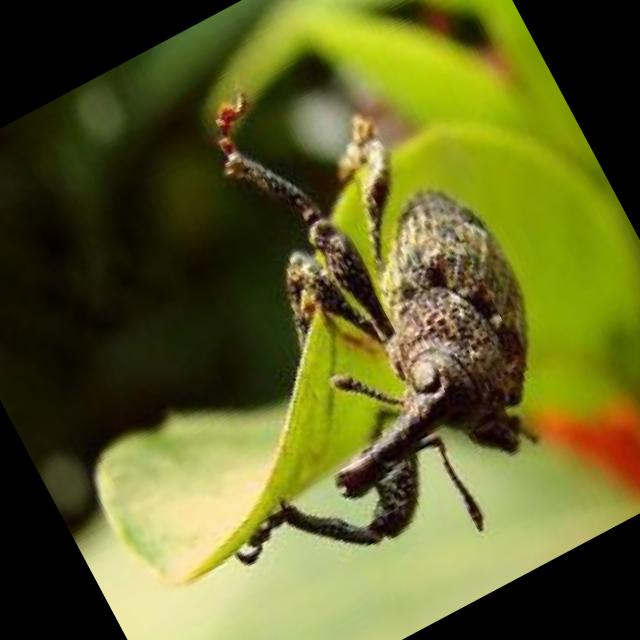rice-bug: (200, 106, 615, 577)
